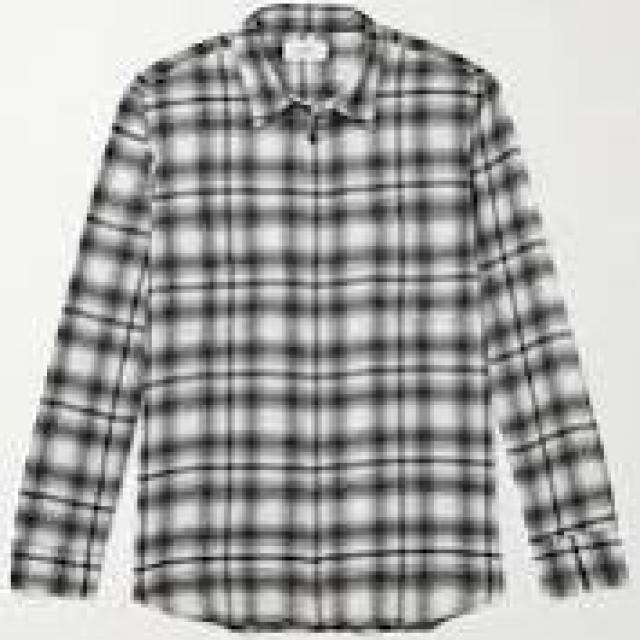plaid: (17, 23, 634, 628)
